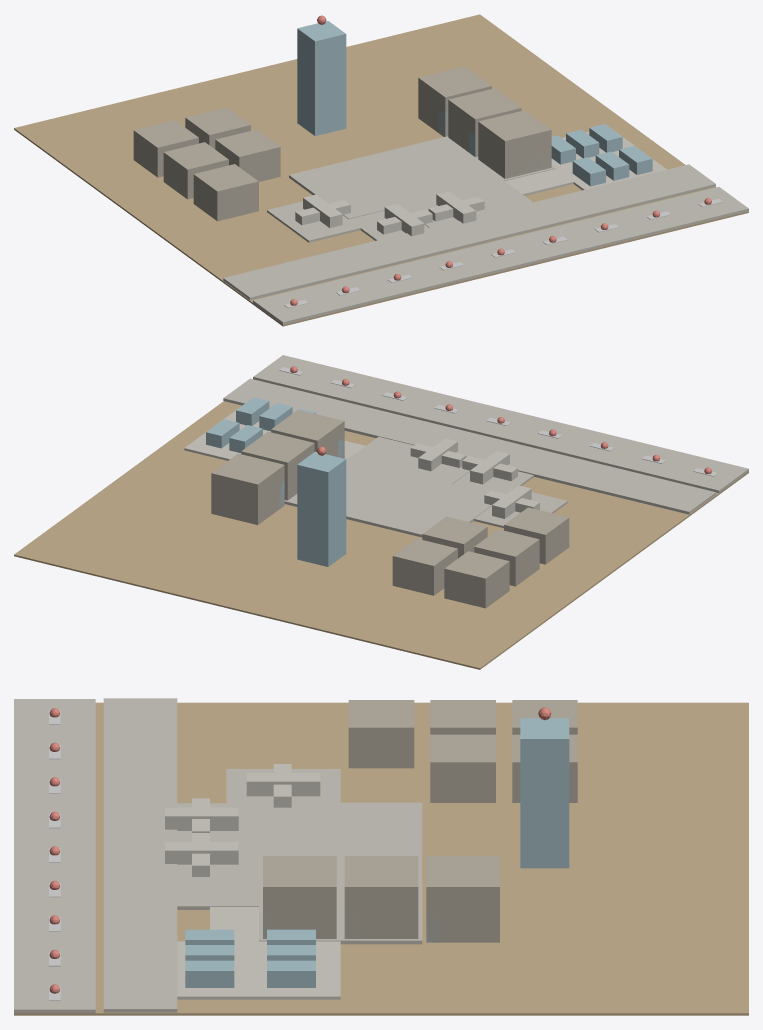
File: stage_20.glb
3 renders of one model, top to bottom at view 1: azimuth 30°, elevation 25°; view 2: azimuth 150°, elevation 25°; view 3: azimuth 270°, elevation 25°, orthographic. The views are drawn at different scales.
Parts seen in each view (by area): view 1: geometry_0; view 2: geometry_0; view 3: geometry_0.
Part boxes in pixels (<box>): geometry_0: <box>14,14,748,326</box>; geometry_0: <box>14,355,748,669</box>; geometry_0: <box>14,698,748,1015</box>.
Bounding box in the file's own units: 9 × 2.06 × 9.
